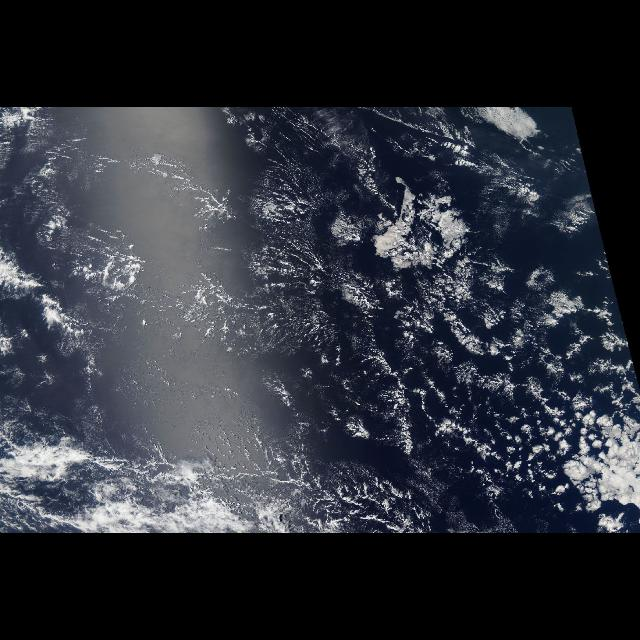Fish: (0, 434, 458, 534)
